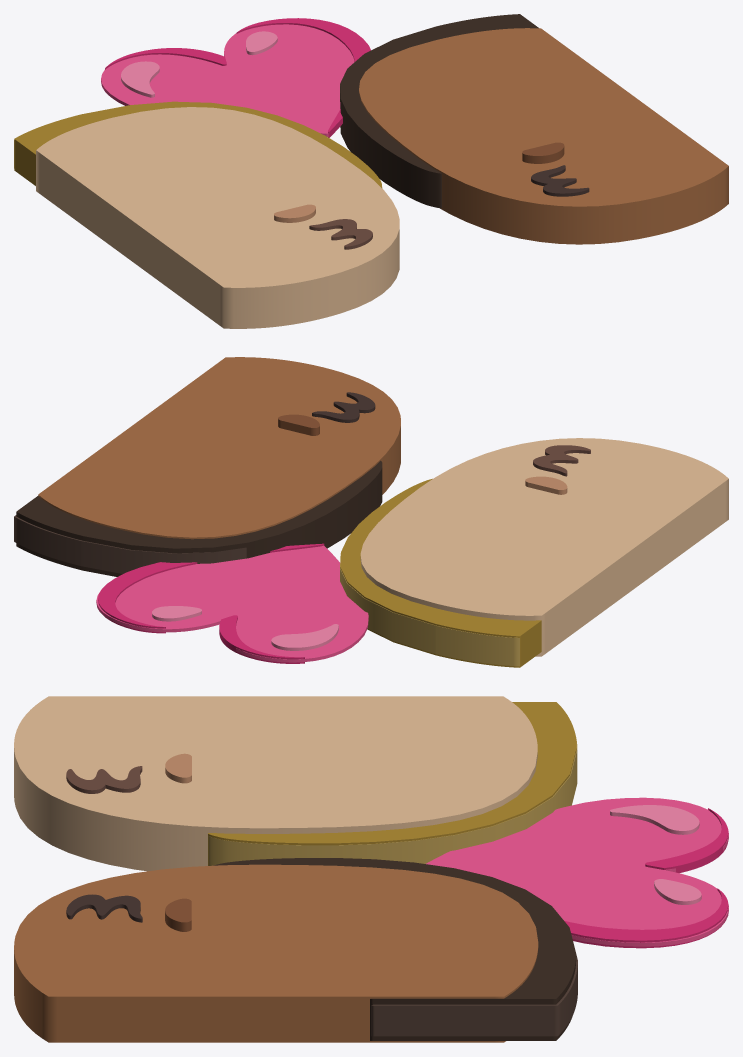
File: emoji_u1f468_1f3fc_200d_2764_200d_1f48b_200d_1f468_1f3fe.glb
3 views of the same model, one above another, from view 1: azimuth 30°, elevation 25°; view 2: azimuth 150°, elevation 25°; view 3: azimuth 270°, elevation 25° (orthographic). The views are drawn at different scales.
Visible parts, largest first — view 1: emoji_u1f468_1f3fc_200d_2764_200d_1f48b_200d_1f468_1f3fe; view 2: emoji_u1f468_1f3fc_200d_2764_200d_1f48b_200d_1f468_1f3fe; view 3: emoji_u1f468_1f3fc_200d_2764_200d_1f48b_200d_1f468_1f3fe.
Part boxes in pixels (x1,y1,x2,y2): emoji_u1f468_1f3fc_200d_2764_200d_1f48b_200d_1f468_1f3fe: [14, 14, 728, 328]; emoji_u1f468_1f3fc_200d_2764_200d_1f48b_200d_1f468_1f3fe: [14, 357, 728, 667]; emoji_u1f468_1f3fc_200d_2764_200d_1f48b_200d_1f468_1f3fe: [14, 696, 728, 1042].
Size of the model in its own units: 0.0336 by 0.0034 by 0.0339.
